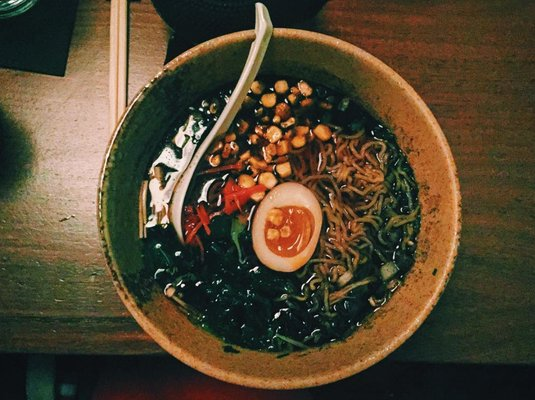sushi: (99, 21, 462, 381)
